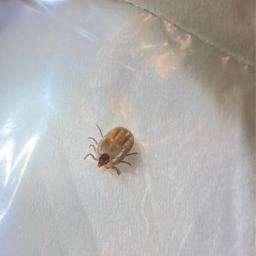Rhipicephalus sanguineus: (82, 123, 141, 176)
